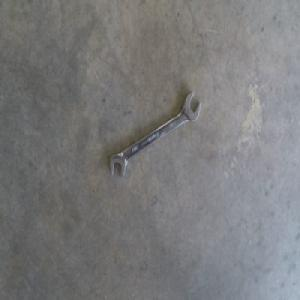Wrench: (109, 85, 200, 179)
